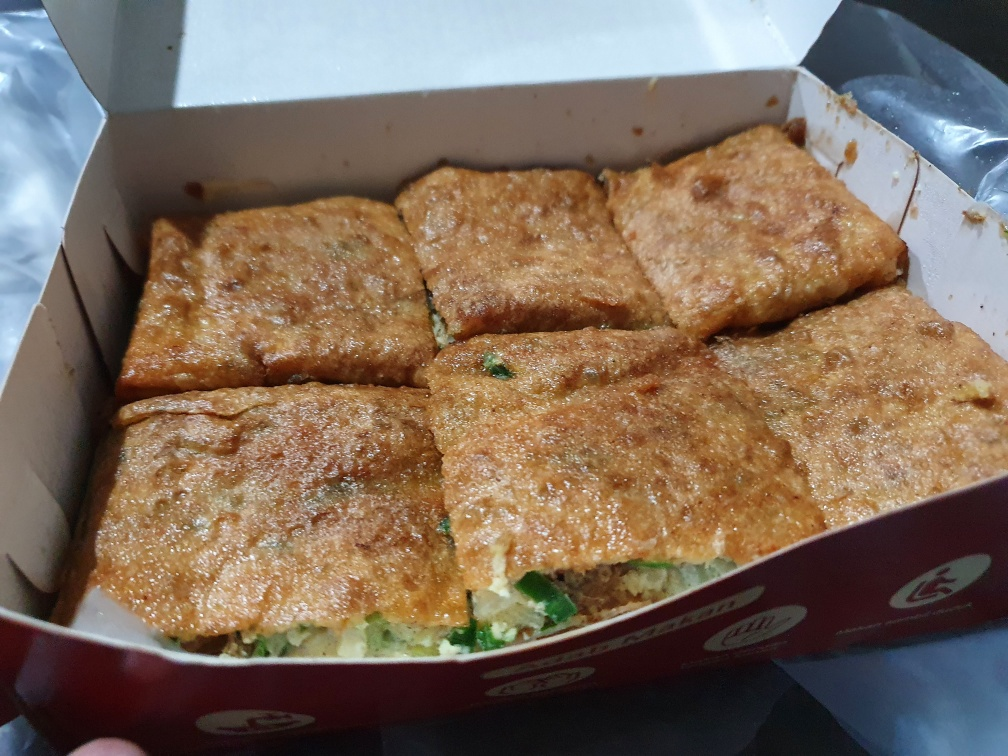martabak telor: (418, 327, 765, 617), (90, 388, 441, 672), (709, 299, 1008, 515), (143, 190, 435, 387), (606, 132, 898, 312), (400, 151, 654, 330)
